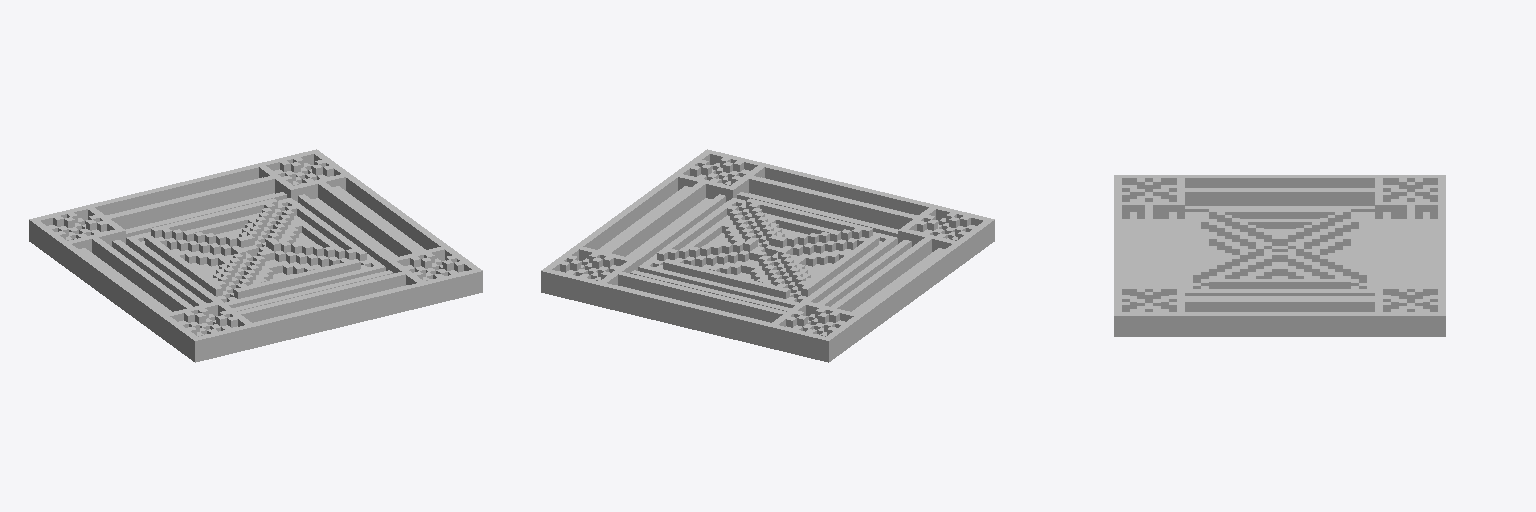
The model's file is Blue-0.obj.
The picture shows the model from 3 angles: view 1: azimuth 30°, elevation 25°; view 2: azimuth 150°, elevation 25°; view 3: azimuth 270°, elevation 25°; orthographic projection.
Visible parts, largest first — view 1: Blue-0; view 2: Blue-0; view 3: Blue-0.
Boxes of the visible parts, x1=… form: Blue-0: x1=29, y1=149, x2=482, y2=362; Blue-0: x1=541, y1=149, x2=994, y2=362; Blue-0: x1=1114, y1=175, x2=1445, y2=336.
Bounding box in the file's own units: 42 × 3 × 42.